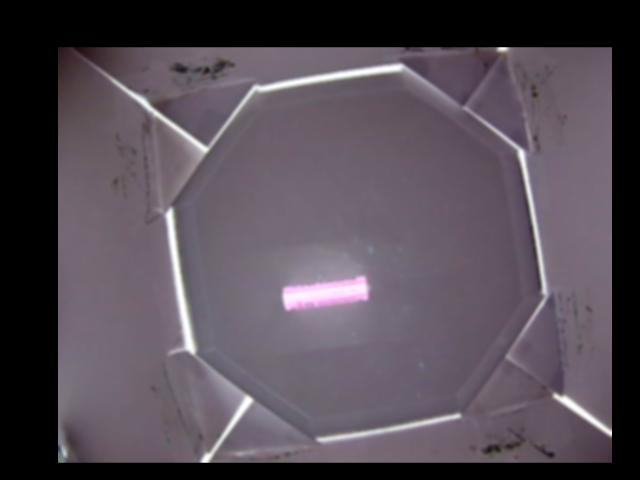Battery: (283, 274, 372, 311)
